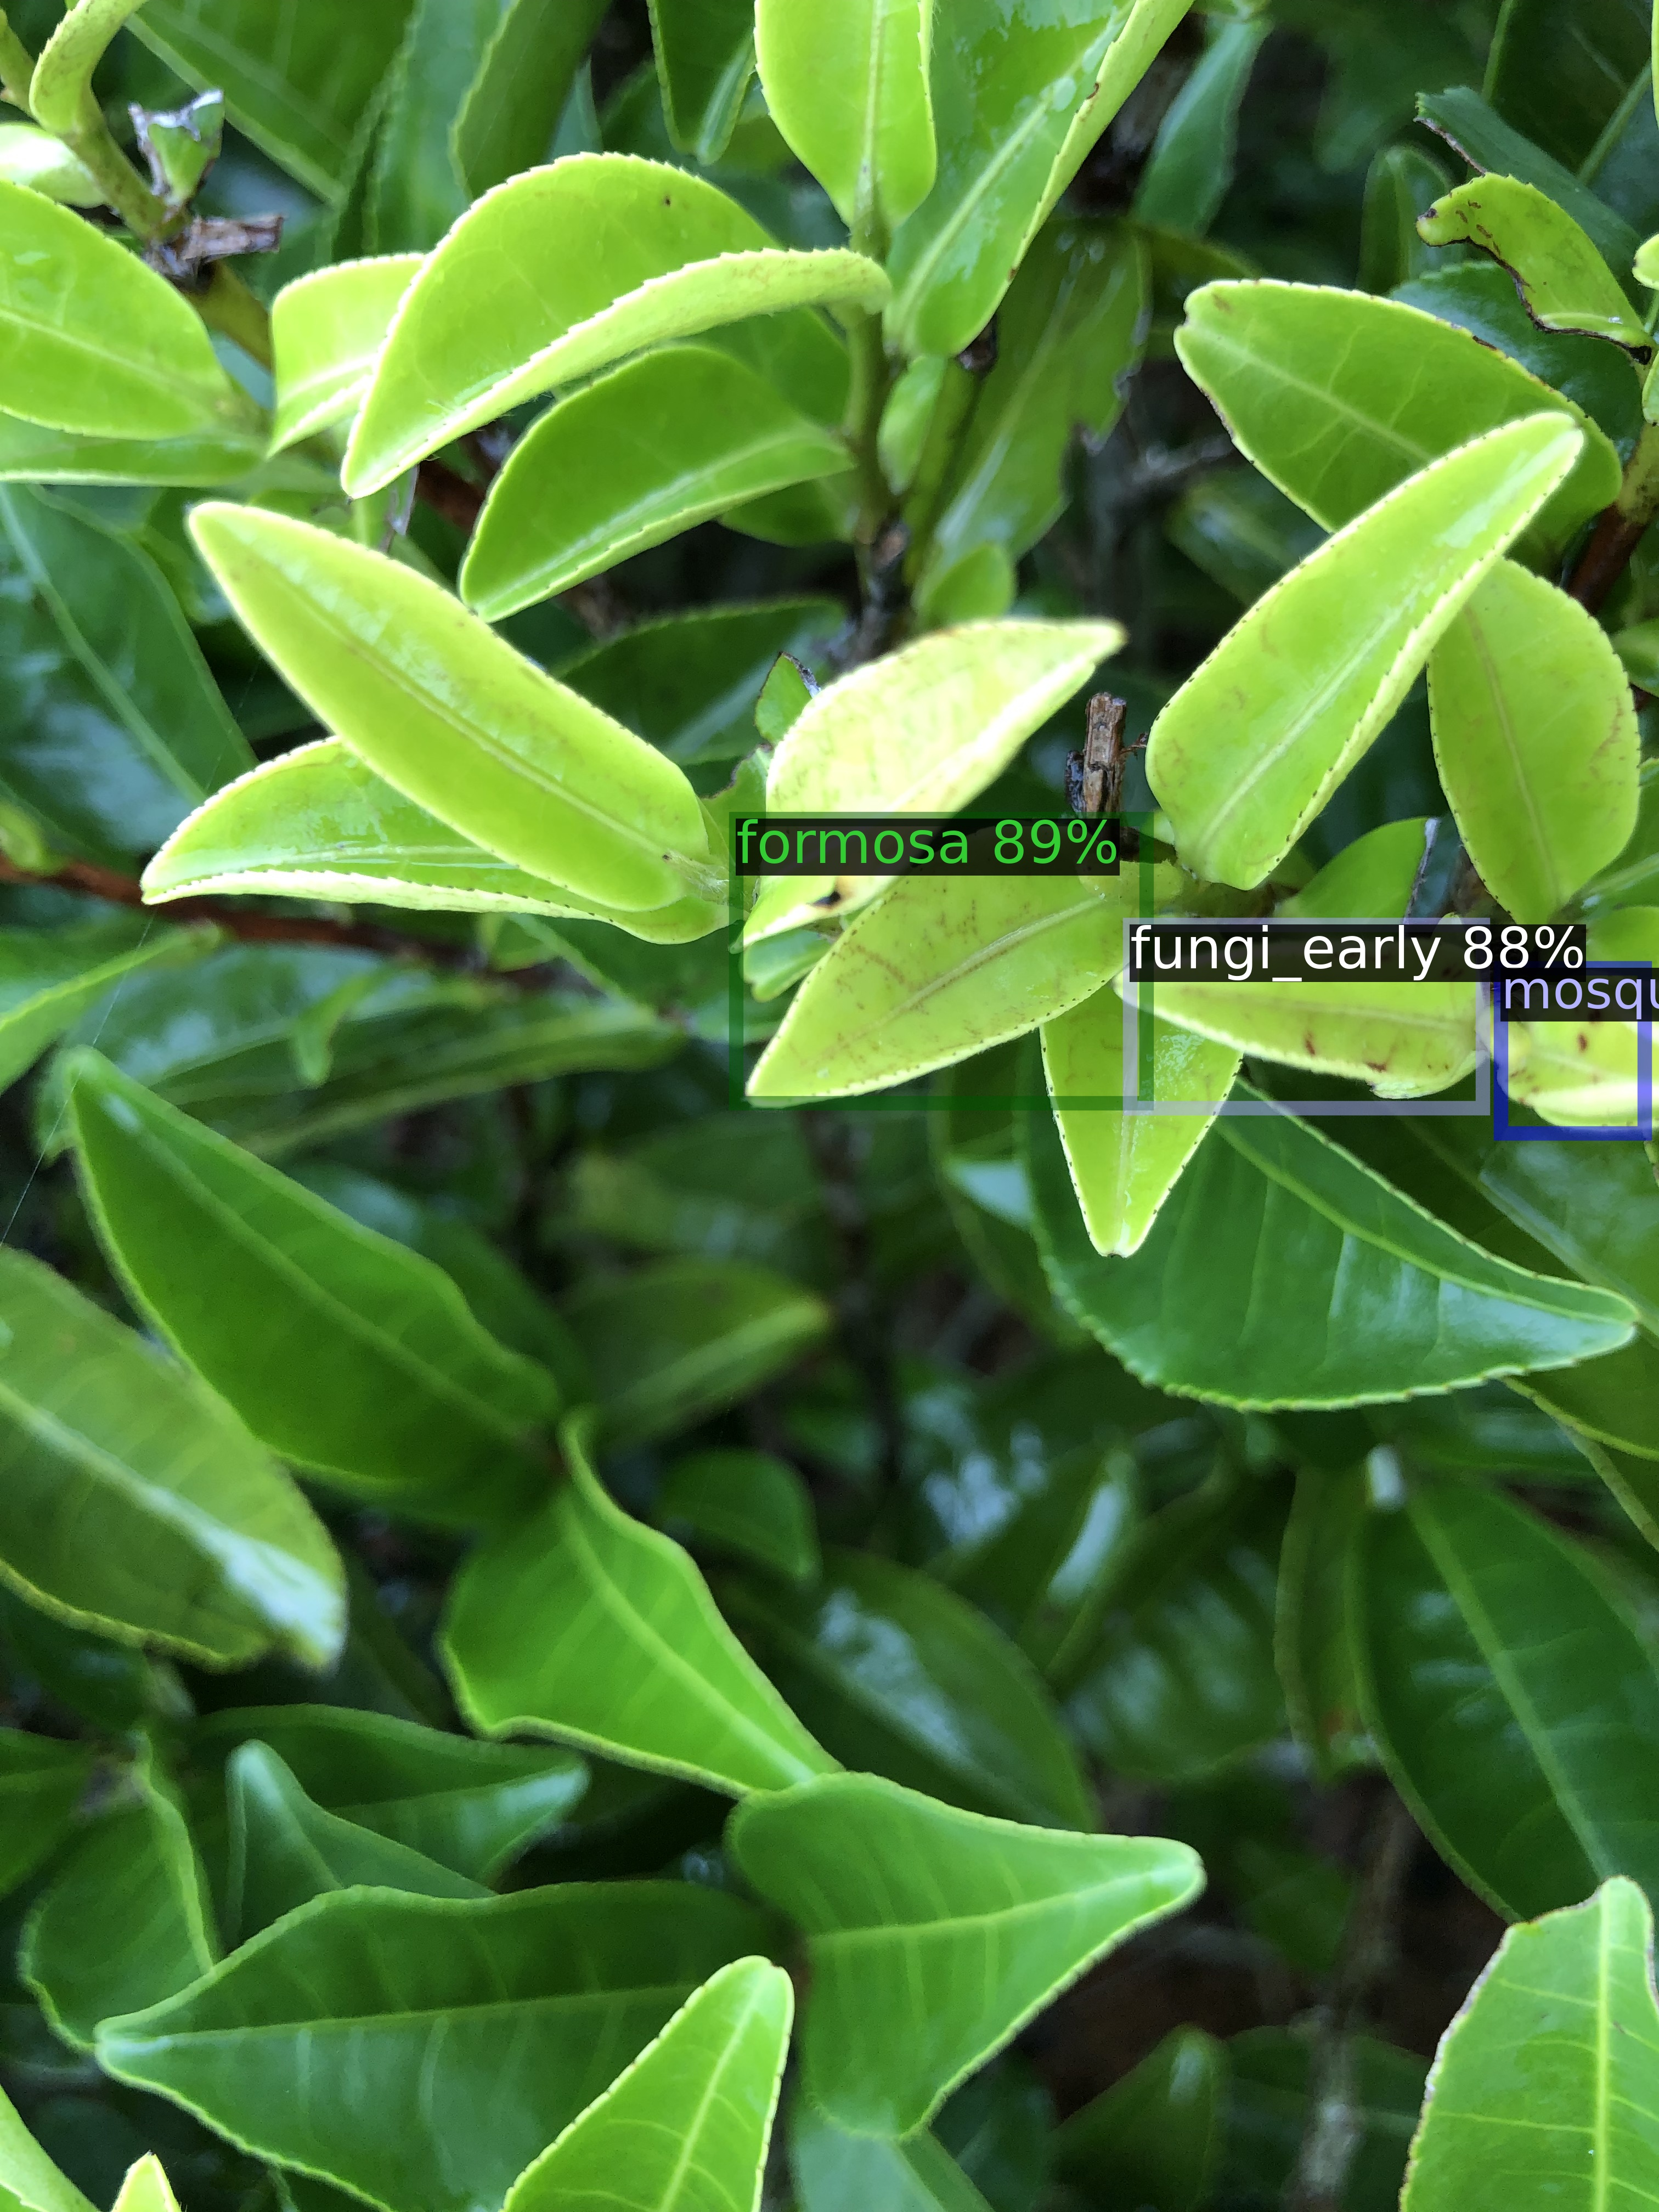formosa: (735, 819, 1147, 1103)
fungi_early: (1129, 925, 1483, 1108)
mosquito_late: (1500, 968, 1645, 1132)
